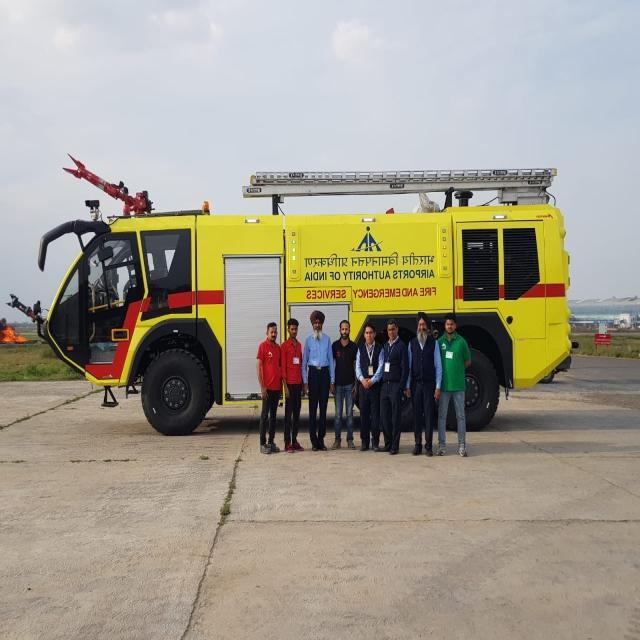emergency: (39, 168, 570, 433)
